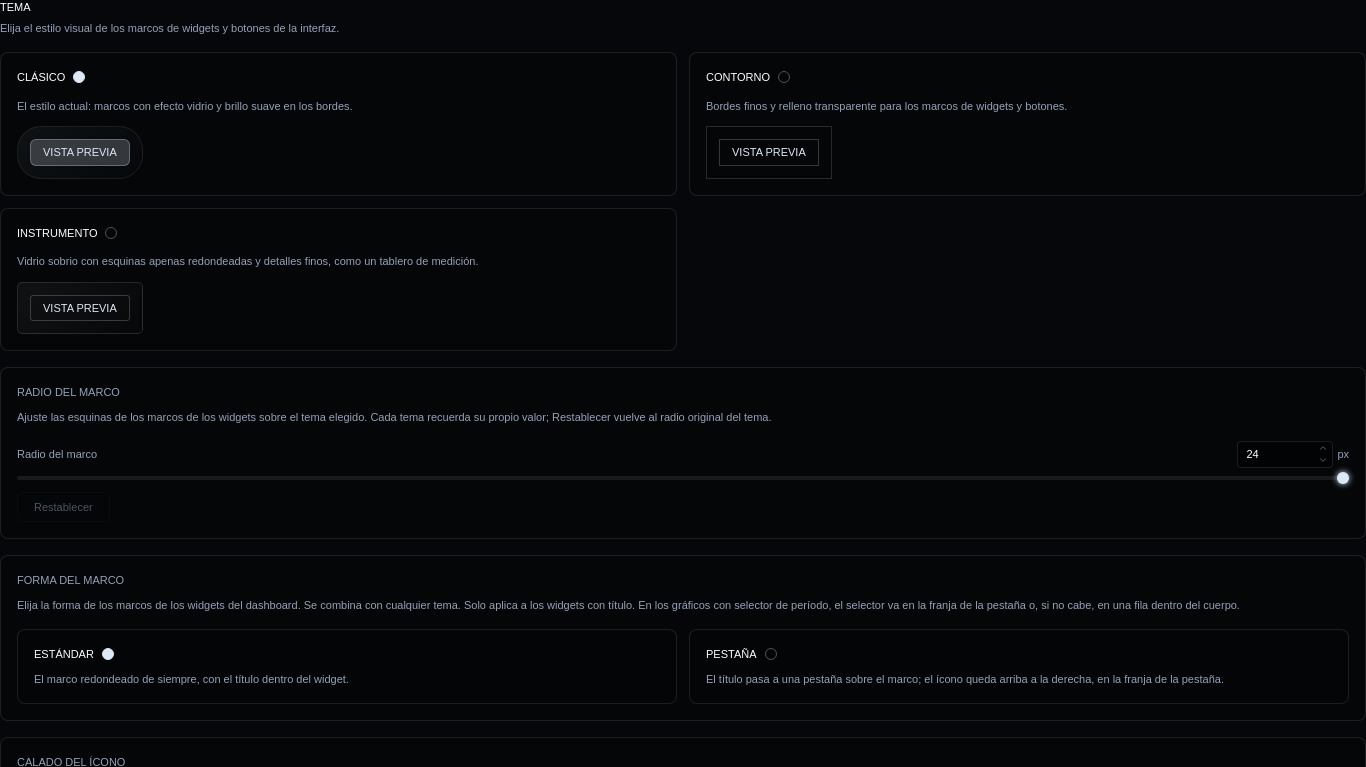
Scenario: ThemeSettingsTab › Calado del ícono › notes that it does not apply with the Pestaña shape, without hiding the switch
This screenshot has width=1366, height=767.
Step 1. Click the radio button labelled "Pestaña" → (731, 654), box [689,629,1349,704]
(page scrolled)
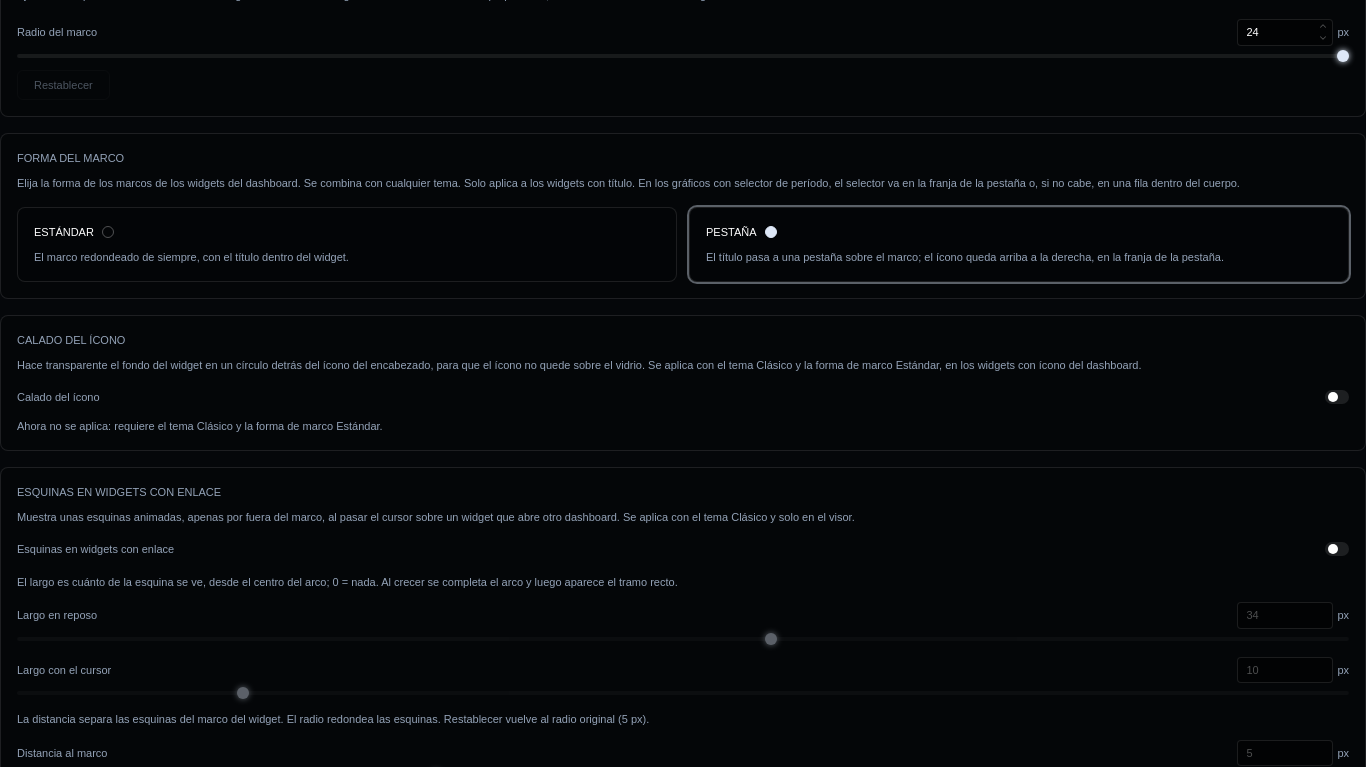
Check: the element "Calado del ícono" shows "Estándar", box [17,358,1142,370]
Check: the element "Calado del ícono" shows "ahora no se aplica", box [17,420,383,432]
